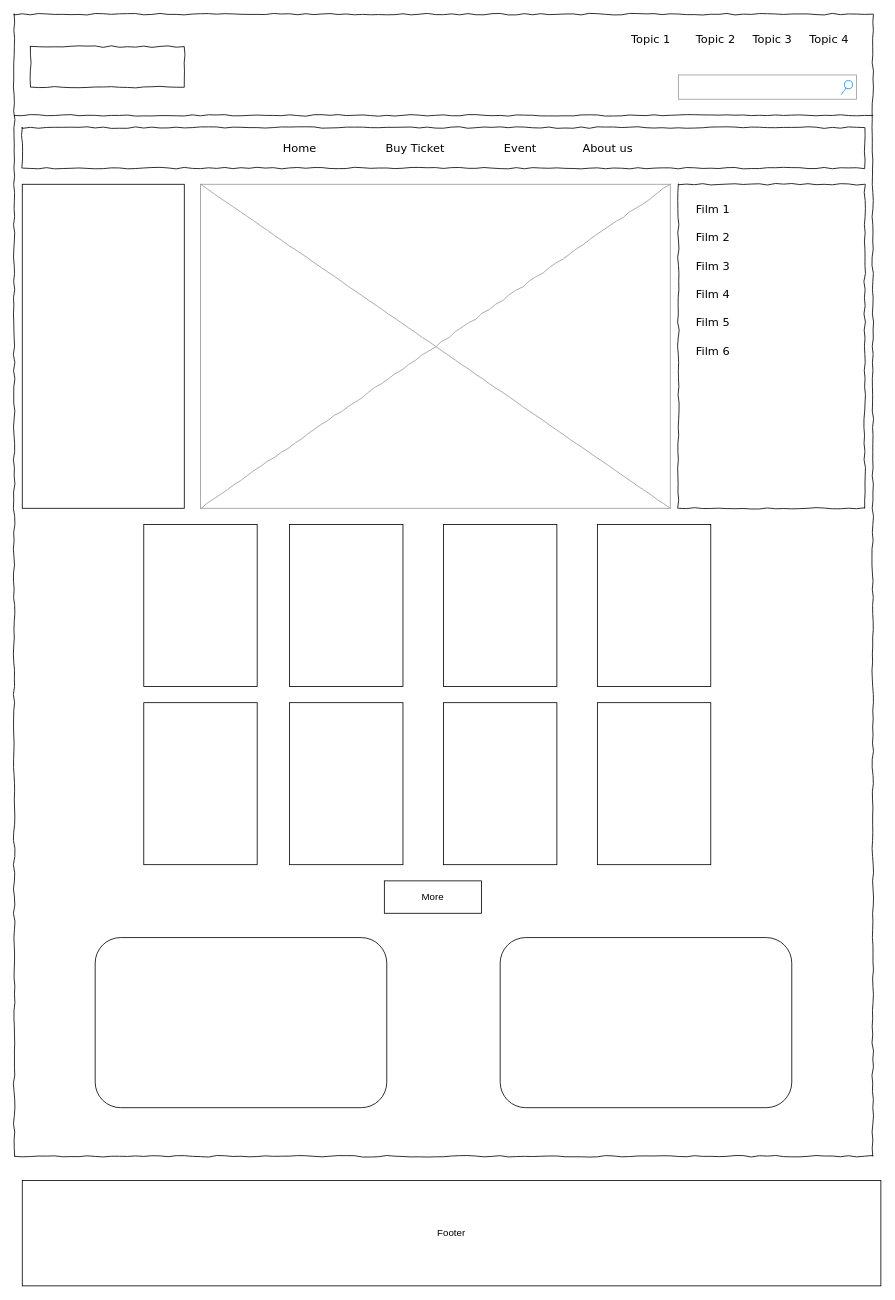
The diagram is 895 pixels wide and 1300 high, and some of its shapes have lost their labels. Each missing label, with the centre of its shape:
"LOGO" belongs at pixel 107 66.
"Search" belongs at pixel 767 86.
